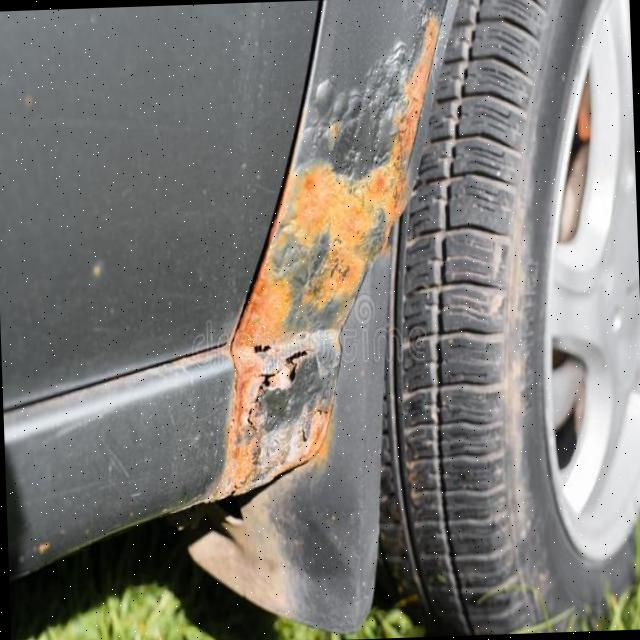Corrosion: (0, 0, 640, 640), (195, 6, 461, 503)
